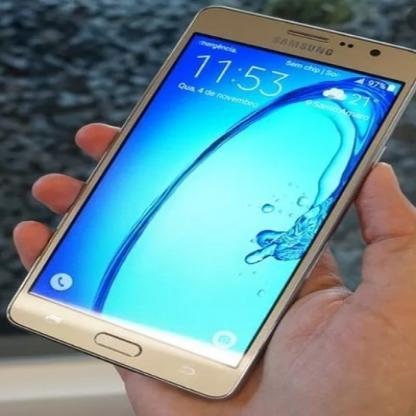SMARTPHONE: (11, 9, 416, 397)
